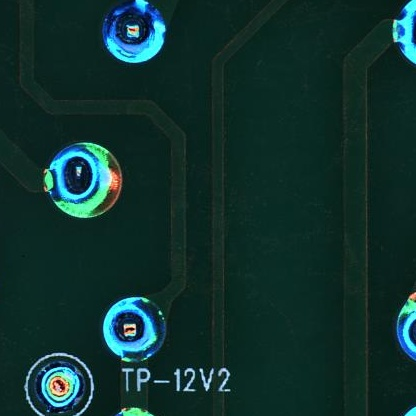spot: (44, 142, 123, 220), (102, 295, 164, 360), (104, 2, 167, 63), (35, 362, 87, 414)
